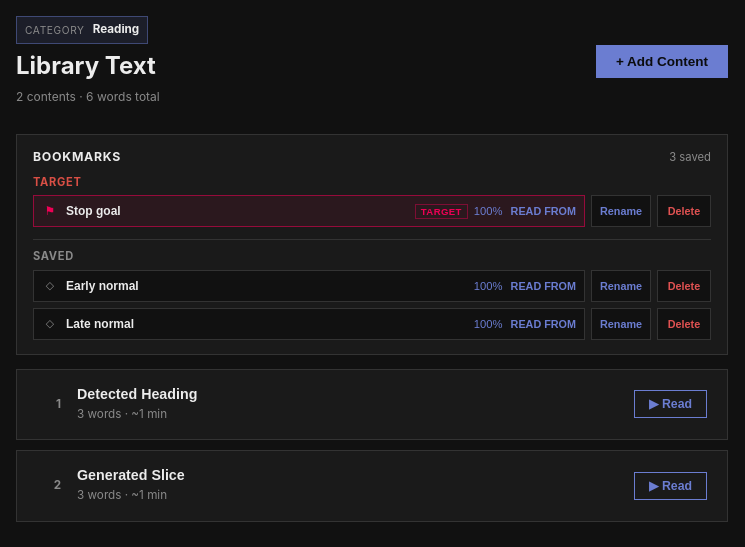
Test: SegmentPanel bookmarks › renames and deletes bookmarks through the bookmark API
The width and height of the screenshot is (745, 547).
Click the button with aria-label "Rename bookmark: Early normal": click(621, 286) [591,270,651,302]
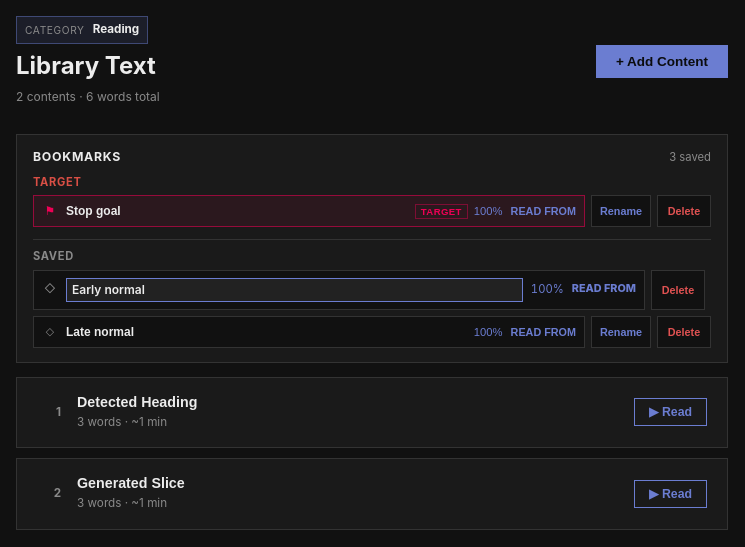
Replace the text in the field named "Edit bookmark label: Early normal" with "Renamed normal": (294, 290) [66,278,523,302]
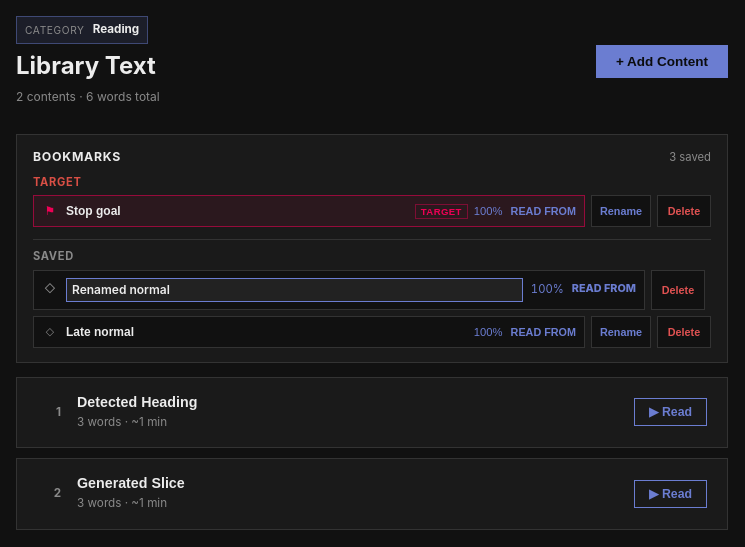
Press Enter in the field named "Edit bookmark label: Early normal", box [66,278,523,302]
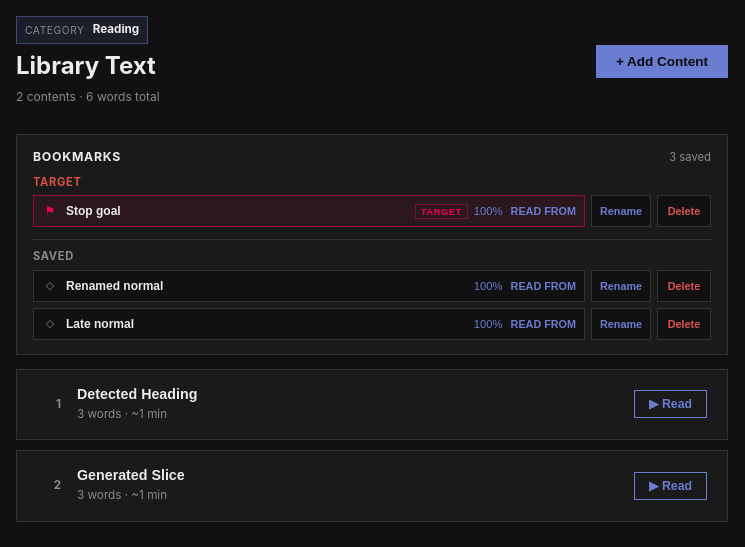
Now the text "Renamed normal" is shown, box [66,278,163,292]
Click the button with aria-label "Delete bookmark: Renamed normal": click(684, 286) [657,270,711,302]
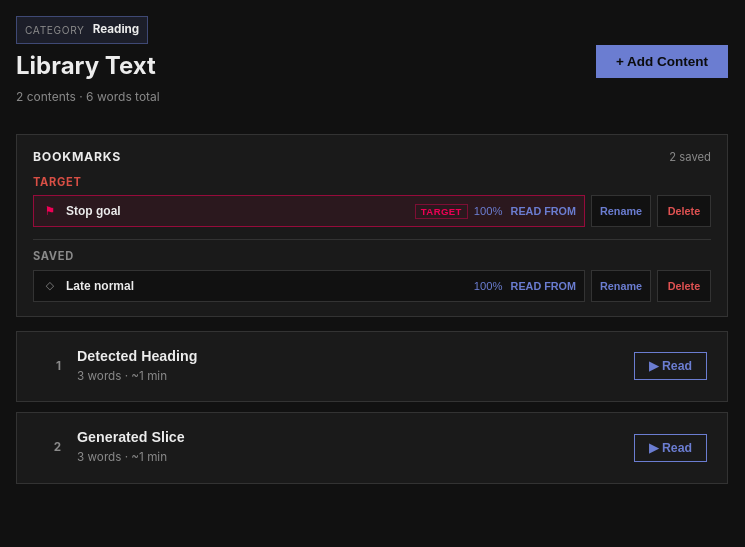
Now the button "Renamed normal" is gone
